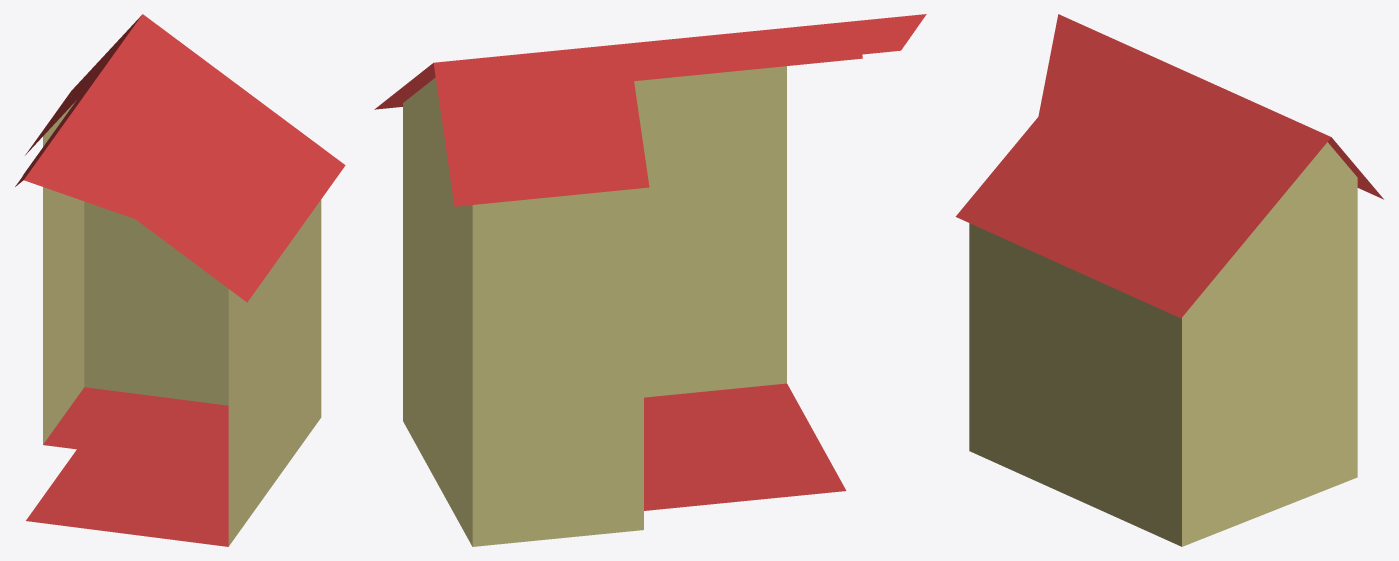
3 renders of one model, left to right at view 1: azimuth 30°, elevation 25°; view 2: azimuth 150°, elevation 25°; view 3: azimuth 270°, elevation 25°, orthographic. The views are drawn at different scales.
Size of the model in its own units: 11.38 by 11.29 by 10.5.
